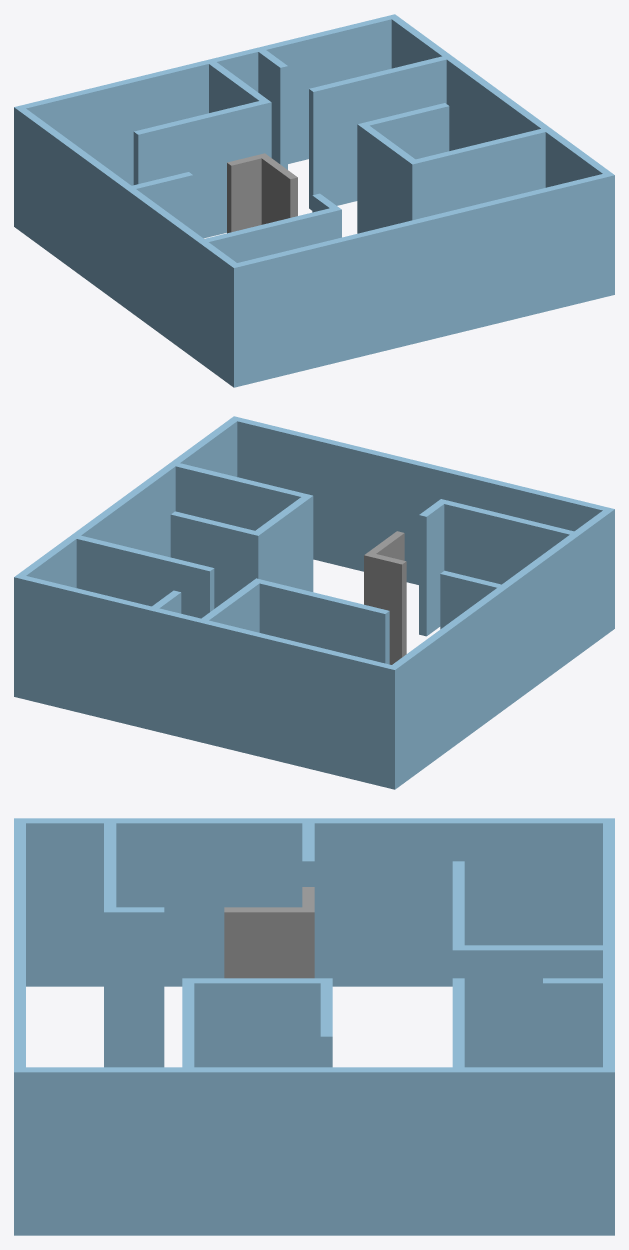
File: ROOMS-walls.dae
3 views of the same model, one above another, from view 1: azimuth 30°, elevation 25°; view 2: azimuth 150°, elevation 25°; view 3: azimuth 270°, elevation 25° (orthographic). The views are drawn at different scales.
Visible parts, largest first — view 1: 5e958e77bea15a15cbad287a (×2); view 2: 5e958e77bea15a15cbad287a (×2); view 3: 5e958e77bea15a15cbad287a (×2).
Part boxes in pixels (left/top/right/bottom): 5e958e77bea15a15cbad287a (×2): left=14, top=14, right=614, bottom=387; 5e958e77bea15a15cbad287a (×2): left=14, top=416, right=614, bottom=789; 5e958e77bea15a15cbad287a (×2): left=14, top=818, right=614, bottom=1235.
Size of the model in its own units: 10 by 10 by 3.
